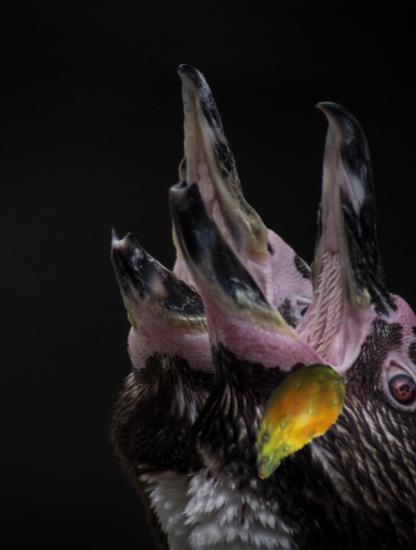Cactus: (228, 355, 357, 484)
